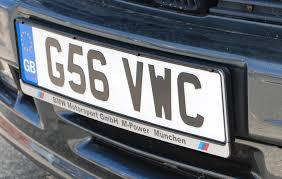5: (66, 39, 85, 94)
6: (87, 48, 110, 100)
C: (174, 71, 207, 129)
G: (44, 36, 66, 88)
V: (120, 55, 145, 114)
W: (146, 63, 174, 120)
